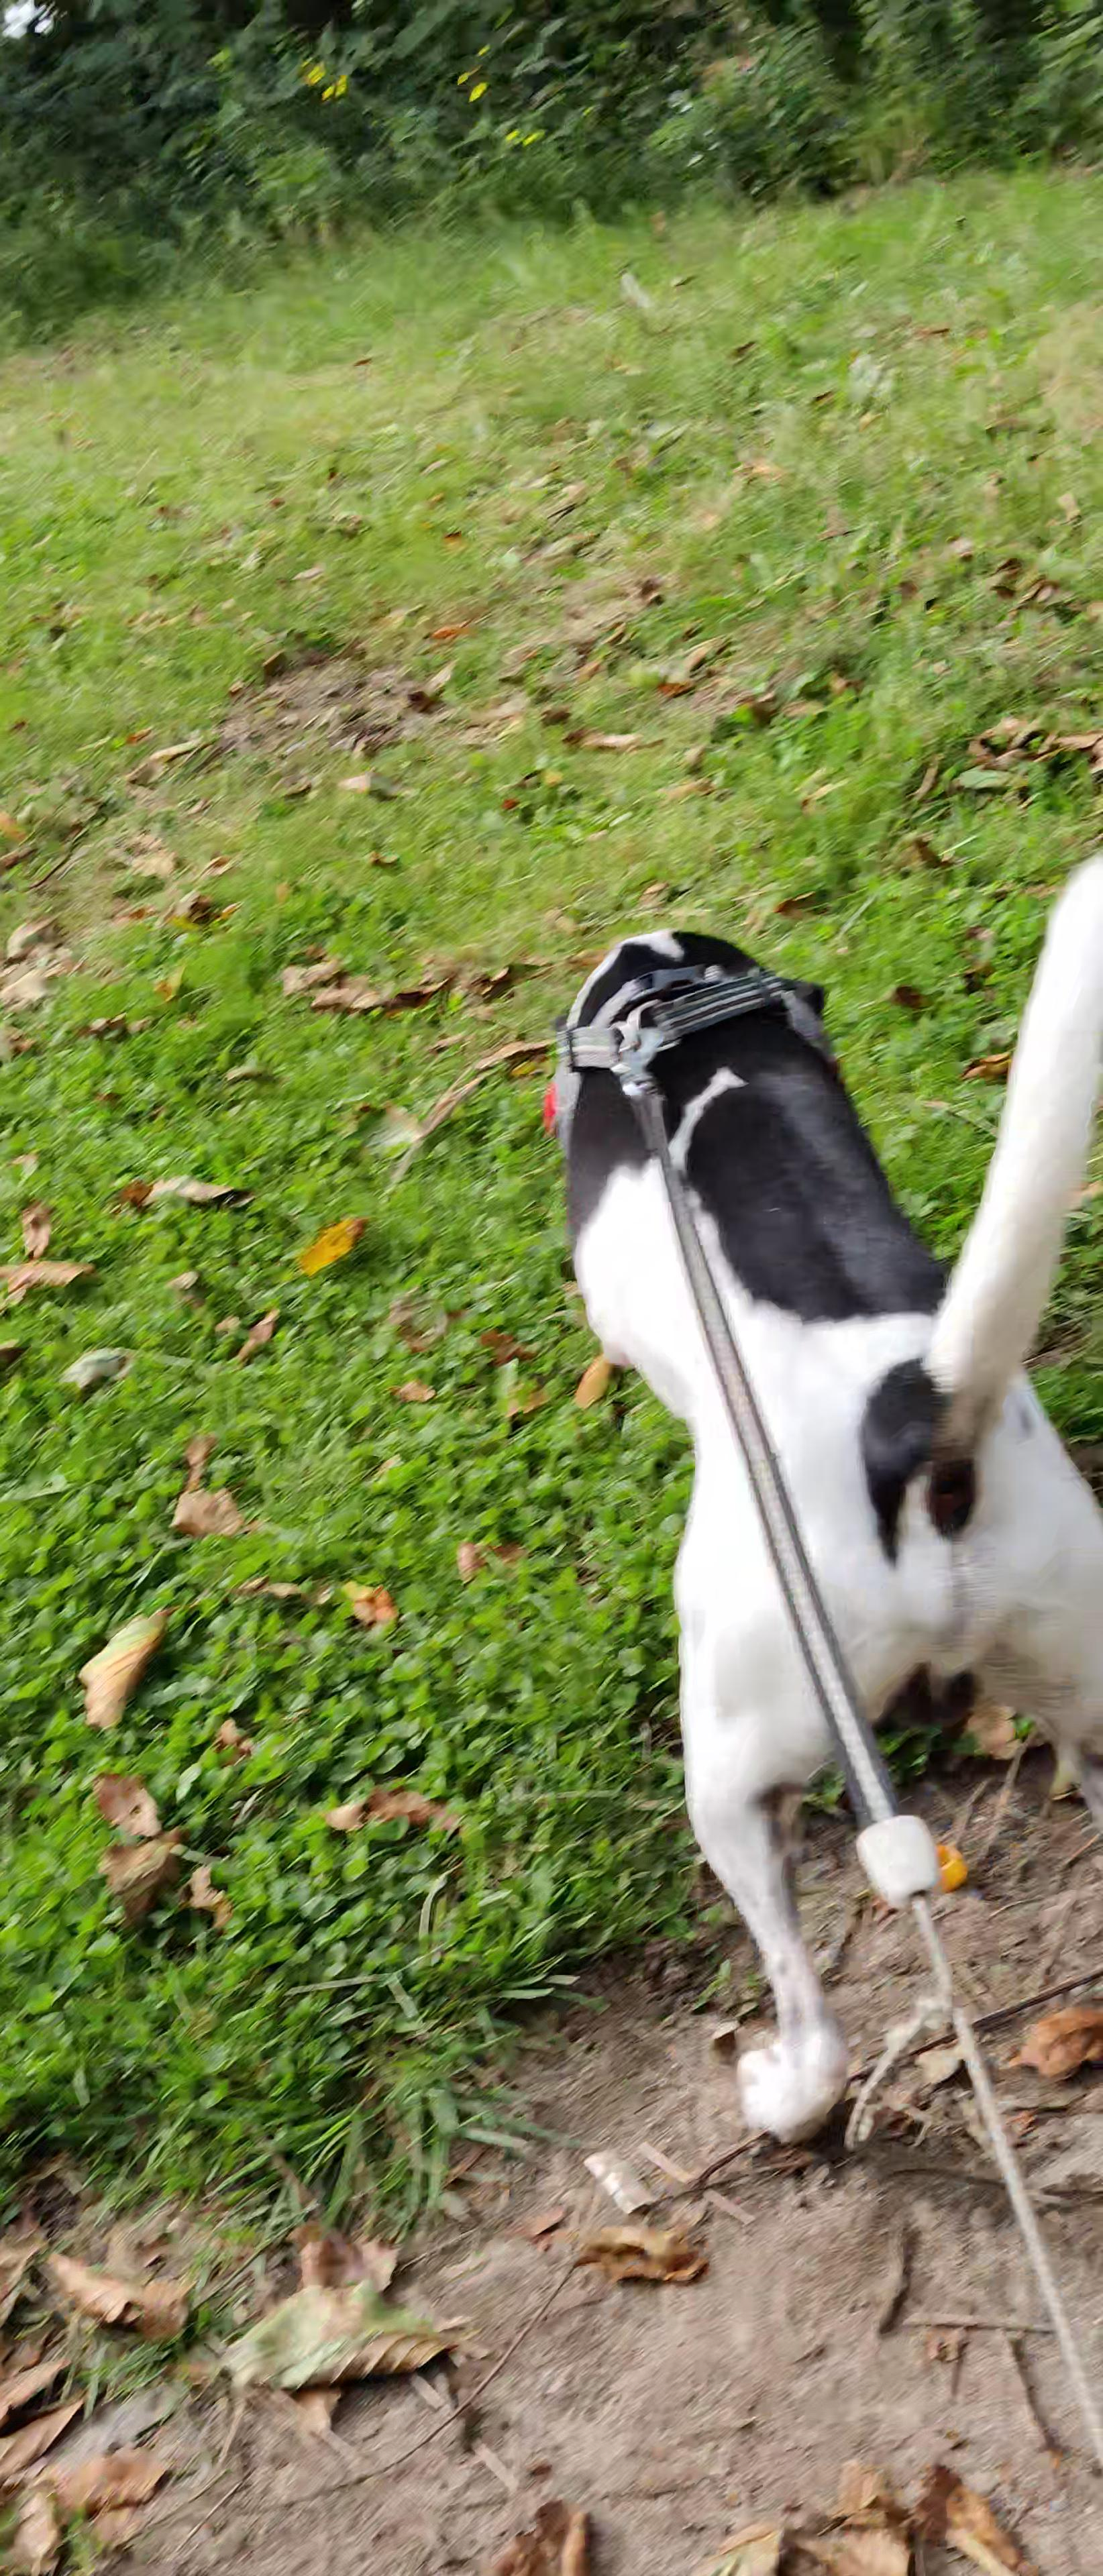Dog: (480, 818, 1103, 2147)
